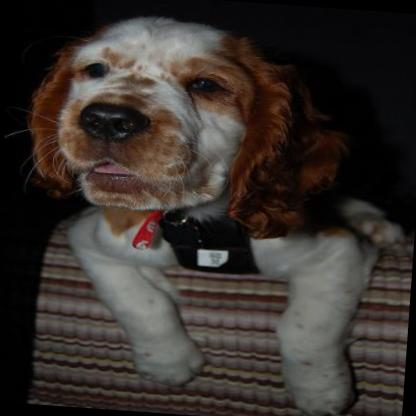Welsh_springer_spaniel: (10, 6, 416, 416)
